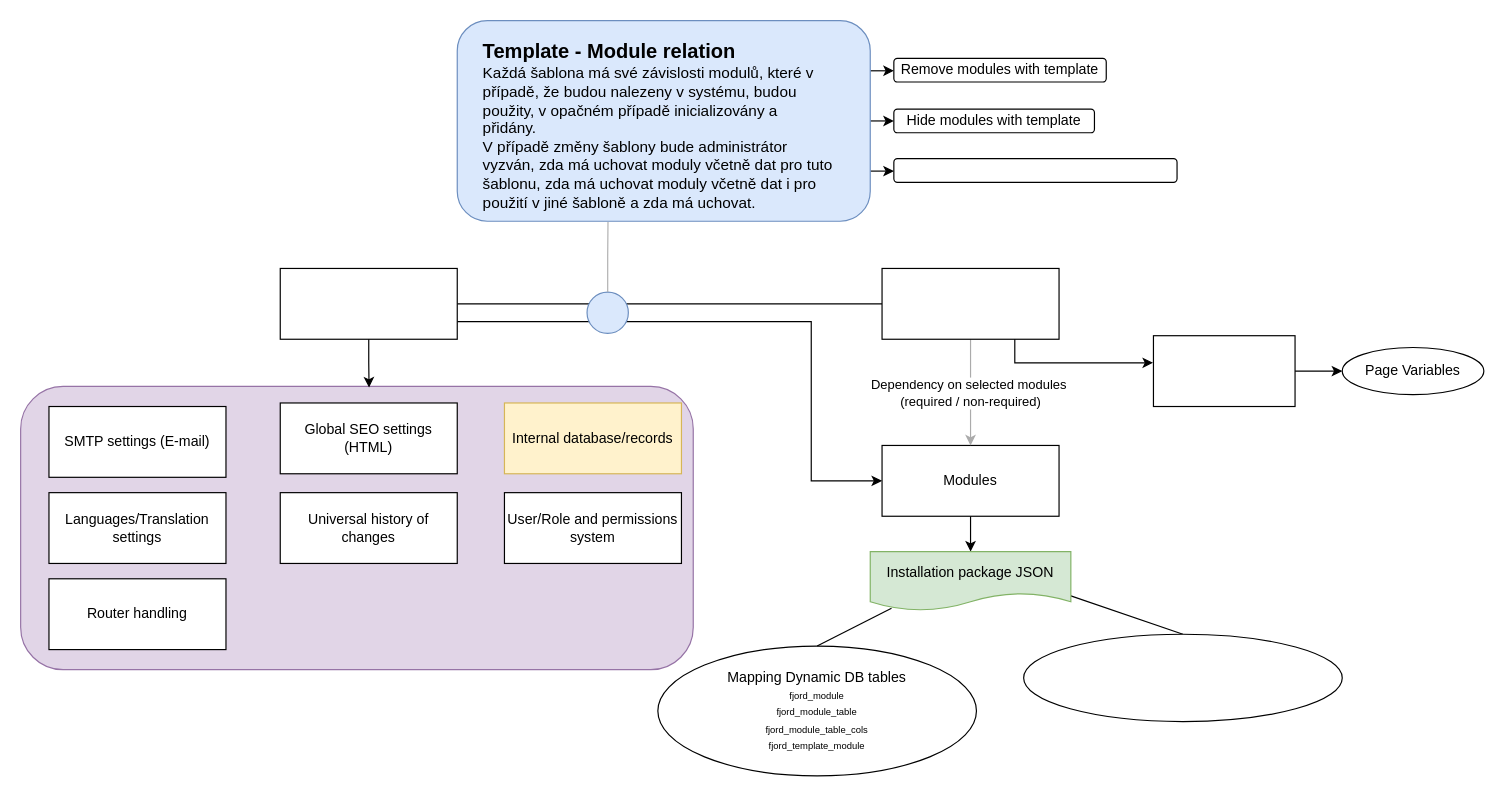
Image size: 1504x796. Some labels were removed from this diagram. The shapes that lost their labels are listed below. From the top down, each one's centre as x and y in pixels, then its label:
At point (1035, 170): "Save modules with data for other templates".
At point (368, 303): "Fjord Core".
At point (970, 303): "Templates".
At point (1223, 371): "Pages".
At point (1182, 677): "Dynamic DB Tables fjord_dyn_module_<UID:int(6)>_<module_name>[_<subtable>]".
